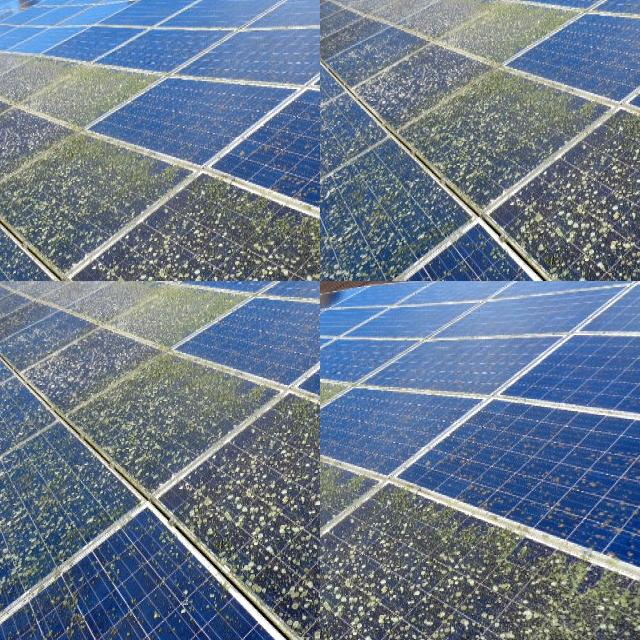bird: (92, 52, 162, 158), (172, 82, 234, 164), (55, 160, 141, 210), (0, 91, 63, 152), (256, 157, 314, 220), (153, 167, 220, 216), (6, 196, 56, 258), (0, 188, 38, 250), (261, 237, 312, 281), (0, 130, 33, 179), (0, 261, 35, 281)
crack: (0, 281, 320, 640)
dust: (339, 588, 640, 640), (555, 413, 640, 559), (338, 518, 504, 591), (320, 372, 420, 454), (320, 476, 369, 640), (320, 444, 361, 582)
